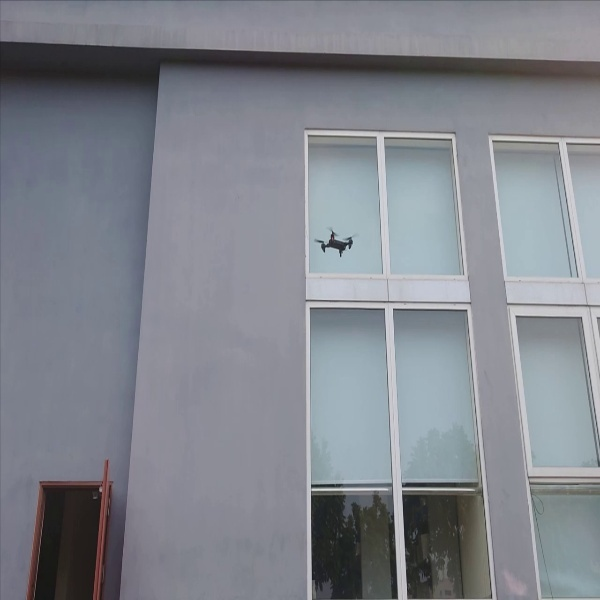drone: (310, 225, 370, 265)
